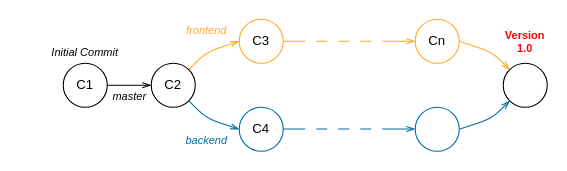
This 567x171 diagram has some shape labels left out. Here are the shapes that lost their labels. From the top down, the centre of each, then its label:
(524,84): Cf
(436,128): Cm
